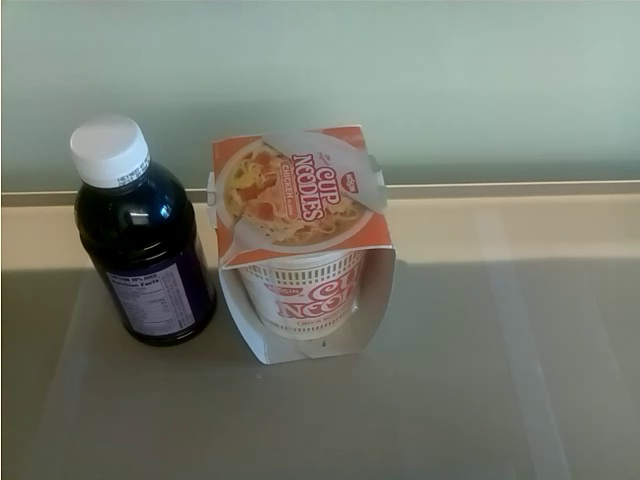juice: (67, 109, 216, 351)
noodles: (203, 124, 398, 369)
